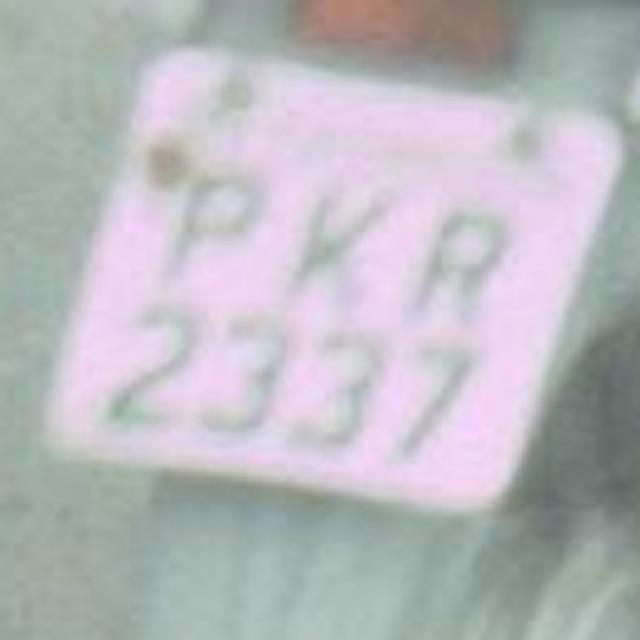0: (1, 1, 1, 2)
2: (84, 284, 211, 444)
3: (269, 308, 396, 472), (180, 300, 295, 445)
7: (360, 328, 488, 500)
B: (396, 188, 512, 340)
N: (269, 164, 396, 316)
P: (148, 152, 272, 300)
